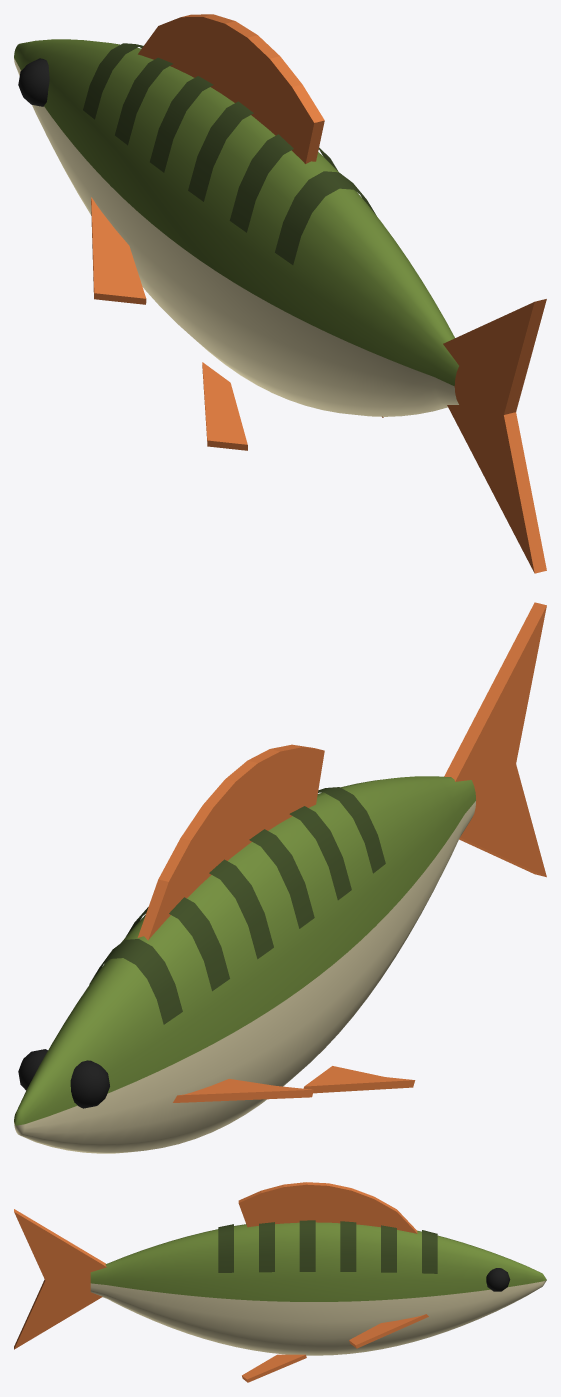
Rendered from perch.fbx.
3 renders of one model, top to bottom at view 1: azimuth 30°, elevation 25°; view 2: azimuth 150°, elevation 25°; view 3: azimuth 270°, elevation 25°, orthographic. The views are drawn at different scales.
Parts seen in each view (by area): view 1: Back, Fin, Belly, Stripe, Eye; view 2: Back, Fin, Belly, Stripe, Eye; view 3: Back, Belly, Fin, Stripe, Eye.
Part boxes in pixels (x1,y1,x2,y2): Back: (14,39,458,386); Fin: (91,14,546,573); Belly: (14,58,458,416); Stripe: (83,43,376,264); Eye: (18,58,49,106); Back: (14,776,476,1125); Fin: (137,602,546,1102); Belly: (14,801,475,1153); Stripe: (89,787,385,1024); Eye: (18,1049,109,1108); Back: (90,1222,546,1301); Belly: (90,1280,546,1355); Fin: (14,1182,428,1382); Stripe: (218,1220,437,1273); Eye: (486,1268,510,1291).
Size of the model in its own units: 62.56 by 95.85 by 259.
